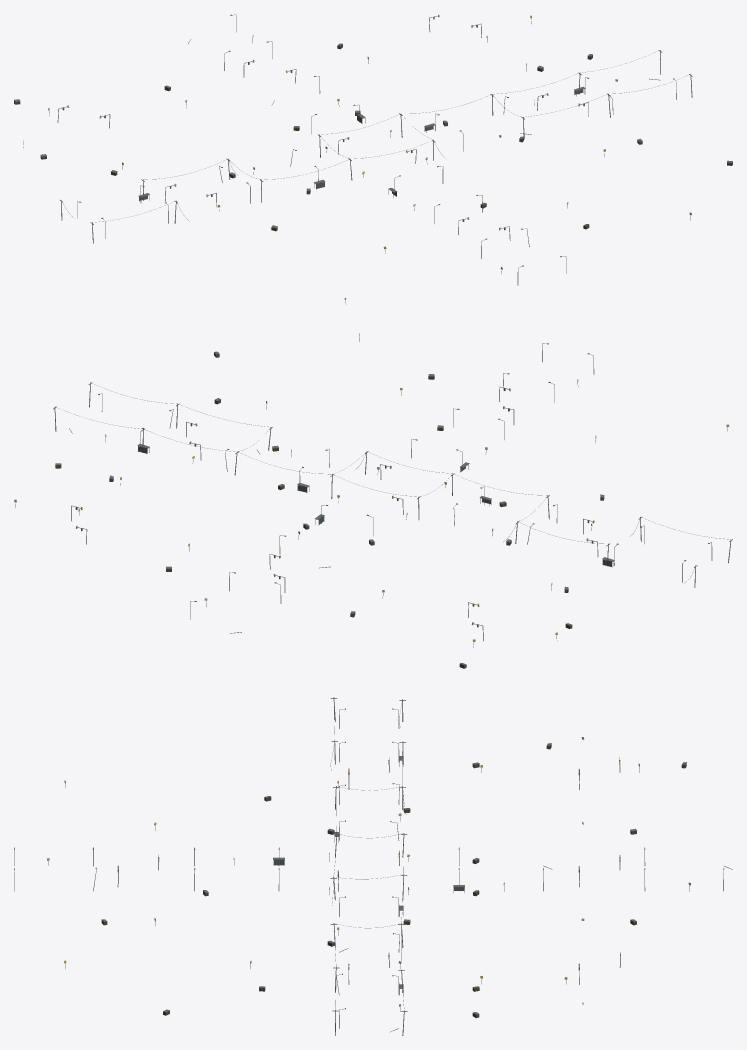
File: Props_and_Street_Objects.glb
3 views of the same model, one above another, from view 1: azimuth 30°, elevation 25°; view 2: azimuth 150°, elevation 25°; view 3: azimuth 270°, elevation 25° (orthographic). The views are drawn at different scales.
Visible parts, largest first — view 1: Props_and_Street_Objects; view 2: Props_and_Street_Objects; view 3: Props_and_Street_Objects.
Part boxes in pixels (left/top/right/bottom): Props_and_Street_Objects: left=14, top=14, right=732, bottom=304; Props_and_Street_Objects: left=14, top=333, right=732, bottom=668; Props_and_Street_Objects: left=14, top=697, right=732, bottom=1035.
Bounding box in the file's own units: 265 × 10.06 × 255.
5 materials, 2 textured.
